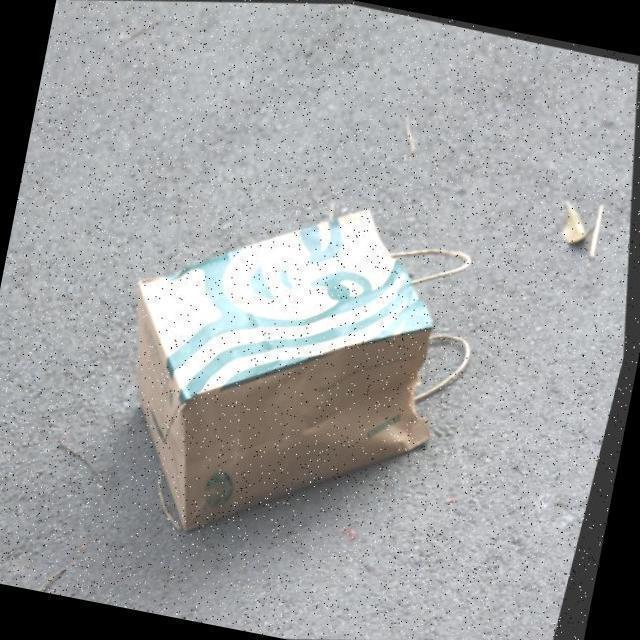Paper_Bag: (68, 140, 543, 602)
